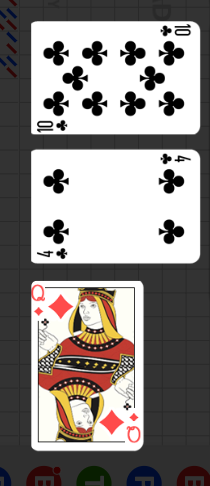10C: (157, 24, 192, 39)
4C: (35, 246, 70, 261)
9D: (126, 411, 142, 445)
